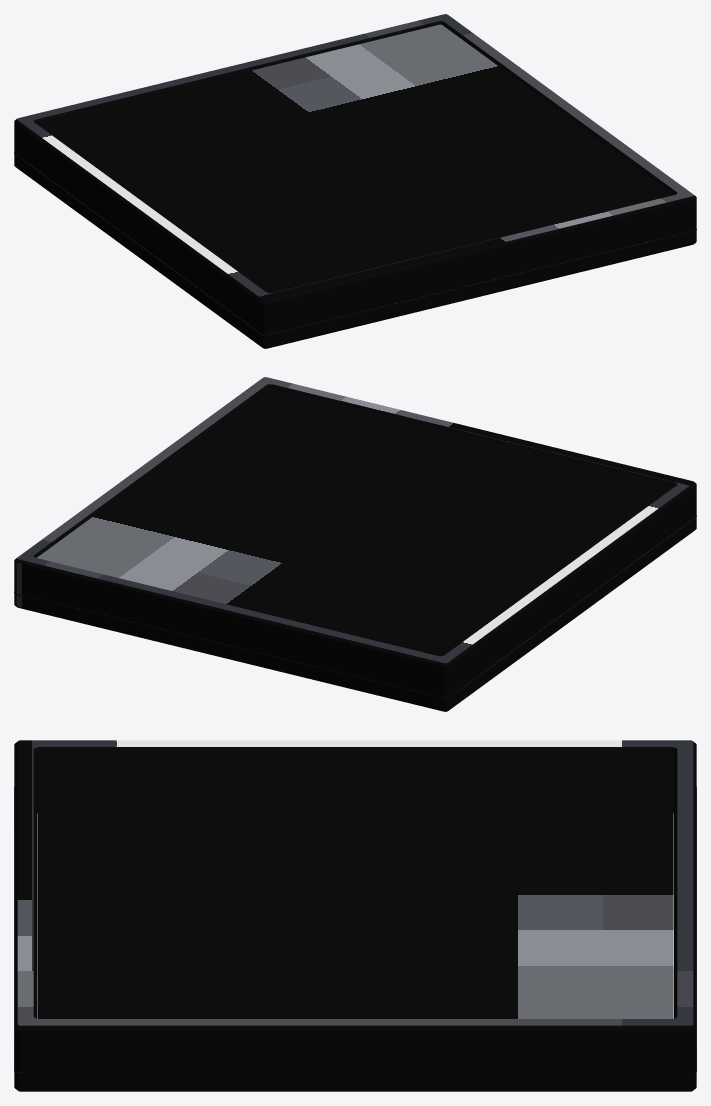
3 renders of one model, top to bottom at view 1: azimuth 30°, elevation 25°; view 2: azimuth 150°, elevation 25°; view 3: azimuth 270°, elevation 25°, orthographic. The views are drawn at different scales.
Visible parts, largest first — view 1: lens_off, frame, seam; view 2: lens_off, frame, seam; view 3: lens_off, frame, seam.
Part boxes in pixels (x1,y1,x2,y2): lens_off: [36, 24, 673, 293]; frame: [14, 14, 696, 348]; seam: [14, 152, 696, 336]; lens_off: [37, 387, 674, 656]; frame: [14, 377, 696, 711]; seam: [14, 515, 696, 699]; lens_off: [37, 751, 673, 1018]; frame: [14, 740, 696, 1091]; seam: [14, 787, 696, 1074].
Size of the model in its own units: 0.6005 by 0.064 by 0.6005.
